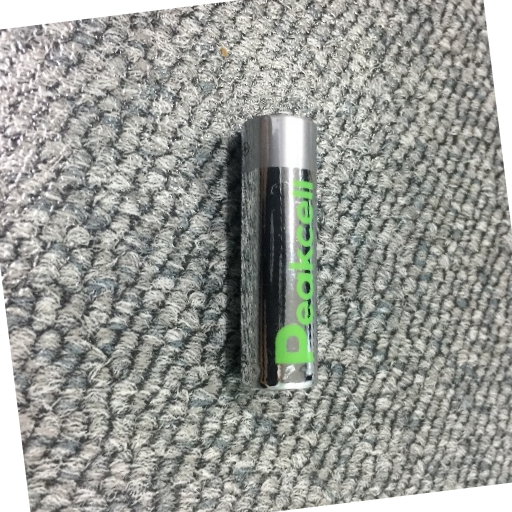Battery_0: (223, 105, 331, 402)
